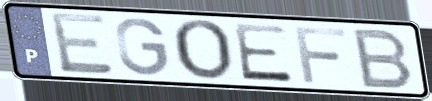B: (351, 27, 417, 91)
E: (47, 10, 118, 76), (230, 22, 296, 85)
F: (292, 24, 350, 85)
G: (113, 15, 171, 78)
O: (169, 17, 235, 83)
